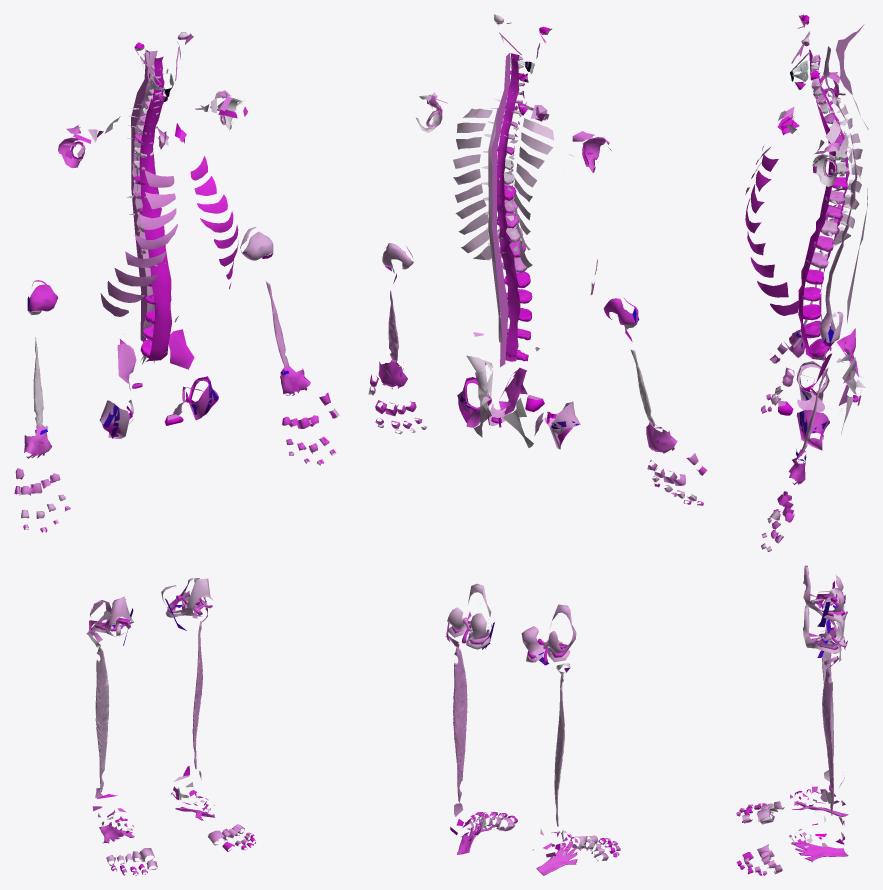
File: myotwin_joints.glb
The picture shows the model from 3 angles, left to right: view 1: azimuth 30°, elevation 25°; view 2: azimuth 150°, elevation 25°; view 3: azimuth 270°, elevation 25°; orthographic projection. The views are drawn at different scales.
Parts seen in each view (by area): view 1: Anterior longitudinal ligament.001, External intercostal membrane.r.001, External intercostal membrane.l.001, Interosseous membrane of leg.r.001, Interspinous ligaments.001, Ligamenta flava.001, Articular capsule of knee joint.l.001, Anterior sacro-iliac ligament.l.001, Articular capsule of elbow joint.l.001, Interosseous membrane of leg.l.001, Articular capsule of elbow joint.r.001; view 2: Posterior longitudinal ligament.001, Internal intercostal membrane.l.001, Interspinous ligaments.001, Internal intercostal membrane.r.001, Interosseous membrane of leg.l.001, Articular capsule of knee joint.r.001, Articular capsule of knee joint.l.001, Supraspinous ligament.001, Interosseous membrane of leg.r.001, Posterior sacro-iliac ligament.l.001; view 3: External intercostal membrane.l.001, Anterior longitudinal ligament.001, Interosseous membrane of leg.l.001, Ligamenta flava.001, Internal intercostal membrane.r.001, Articular capsule of knee joint.l.001, Articular capsule of knee joint.r.001, Articular capsule of hip joint.l.001, Long plantar ligament.l.001, Posterior longitudinal ligament.001, Nuchal ligament.001, Articular capsule of elbow joint.l.001 (+14 smaller).
Boxes of the visible parts, x1,y1,x2,y2 form: Anterior longitudinal ligament.001: (139, 56, 171, 361); External intercostal membrane.r.001: (100, 170, 177, 316); External intercostal membrane.l.001: (190, 156, 238, 289); Interosseous membrane of leg.r.001: (95, 647, 109, 792); Interspinous ligaments.001: (131, 50, 149, 341); Ligamenta flava.001: (132, 50, 157, 334); Articular capsule of knee joint.l.001: (161, 578, 212, 617); Anterior sacro-iliac ligament.l.001: (168, 329, 194, 369); Articular capsule of elbow joint.l.001: (240, 227, 273, 260); Interosseous membrane of leg.l.001: (192, 621, 202, 769); Articular capsule of elbow joint.r.001: (28, 280, 57, 311); Posterior longitudinal ligament.001: (497, 53, 520, 361); Internal intercostal membrane.l.001: (453, 108, 492, 260); Interspinous ligaments.001: (490, 53, 509, 366); Internal intercostal membrane.r.001: (514, 118, 554, 267); Interosseous membrane of leg.l.001: (453, 648, 467, 802); Articular capsule of knee joint.r.001: (521, 604, 576, 662); Articular capsule of knee joint.l.001: (447, 583, 491, 649); Supraspinous ligament.001: (488, 108, 502, 342); Interosseous membrane of leg.r.001: (554, 672, 564, 826); Posterior sacro-iliac ligament.l.001: (466, 355, 493, 410); External intercostal membrane.l.001: (745, 154, 799, 315); Anterior longitudinal ligament.001: (798, 49, 835, 358); Interosseous membrane of leg.l.001: (822, 666, 834, 815); Ligamenta flava.001: (823, 46, 857, 331); Internal intercostal membrane.r.001: (830, 95, 862, 245); Articular capsule of knee joint.l.001: (803, 605, 846, 653); Articular capsule of knee joint.r.001: (803, 565, 846, 620); Articular capsule of hip joint.l.001: (797, 409, 829, 450); Long plantar ligament.l.001: (791, 841, 848, 862); Posterior longitudinal ligament.001: (818, 54, 849, 350); Nuchal ligament.001: (835, 24, 864, 94); Articular capsule of elbow joint.l.001: (819, 311, 843, 343).
Size of the model in its own units: 0.6634 by 1.58 by 0.2315.
